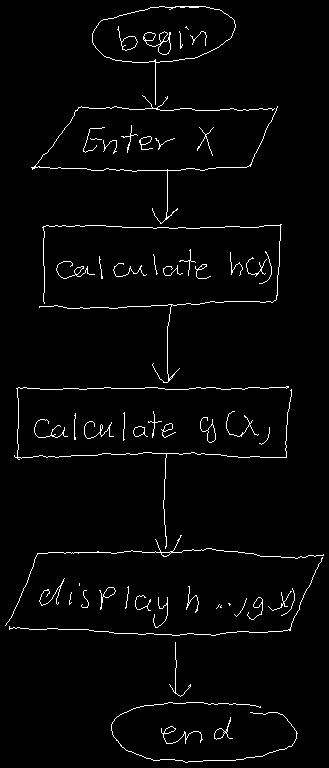arrow: (155, 453, 181, 556), (152, 305, 179, 382), (152, 169, 177, 223), (142, 59, 167, 108), (169, 642, 190, 696)
data: (5, 548, 323, 635), (31, 106, 277, 171)
process: (39, 224, 281, 308), (14, 386, 291, 459)
terminator: (111, 702, 297, 762), (92, 6, 235, 62)
text: (39, 578, 294, 627), (34, 411, 269, 444), (56, 249, 271, 283), (83, 125, 213, 155), (117, 26, 206, 54), (161, 717, 232, 743)
